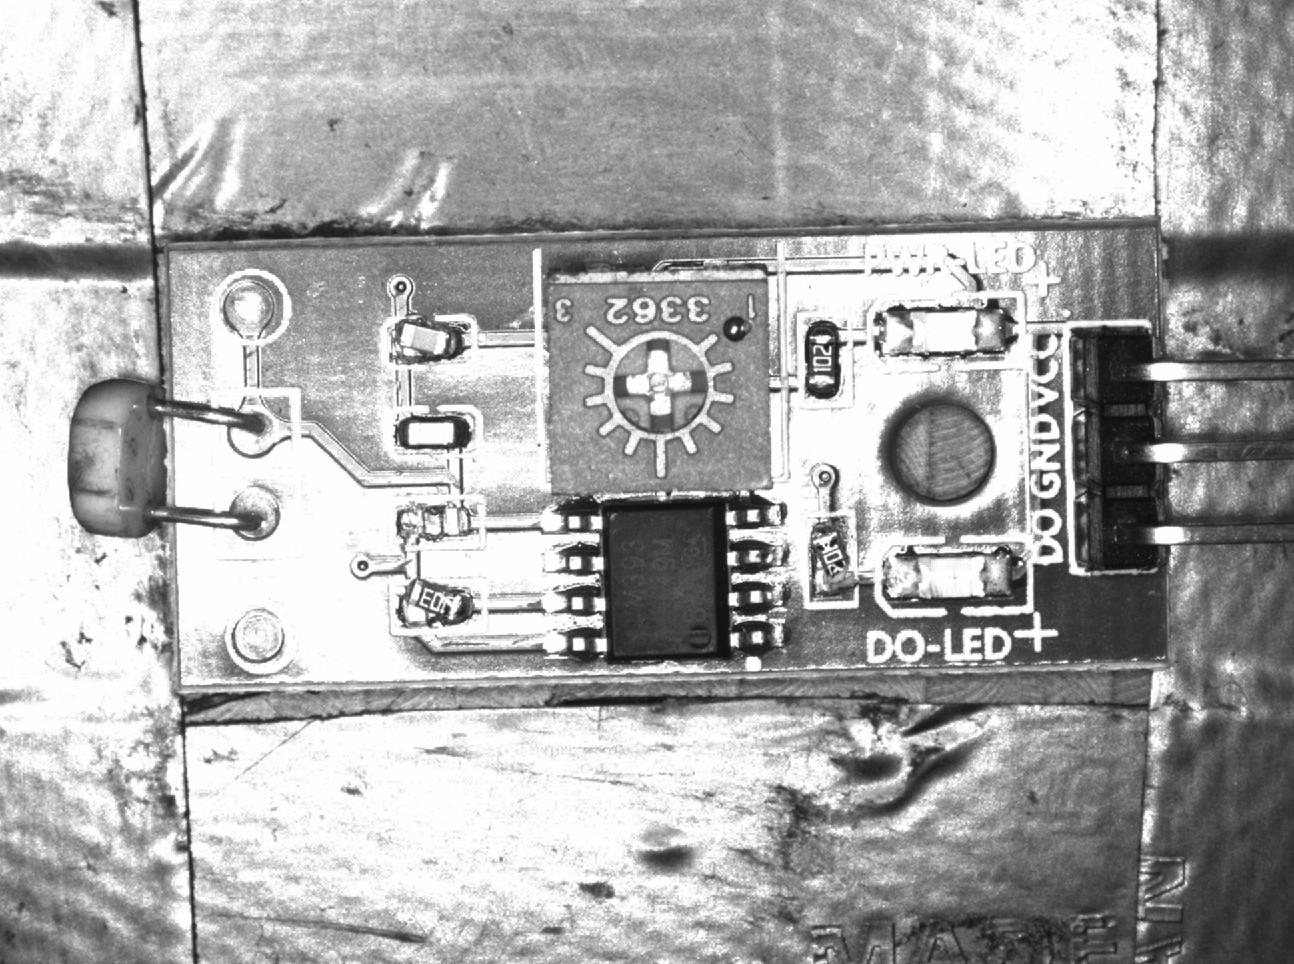bridge: (386, 499, 485, 549)
lifted: (387, 578, 487, 632), (385, 317, 478, 370), (808, 514, 858, 606)
ok: (386, 408, 485, 458), (799, 314, 851, 405)
